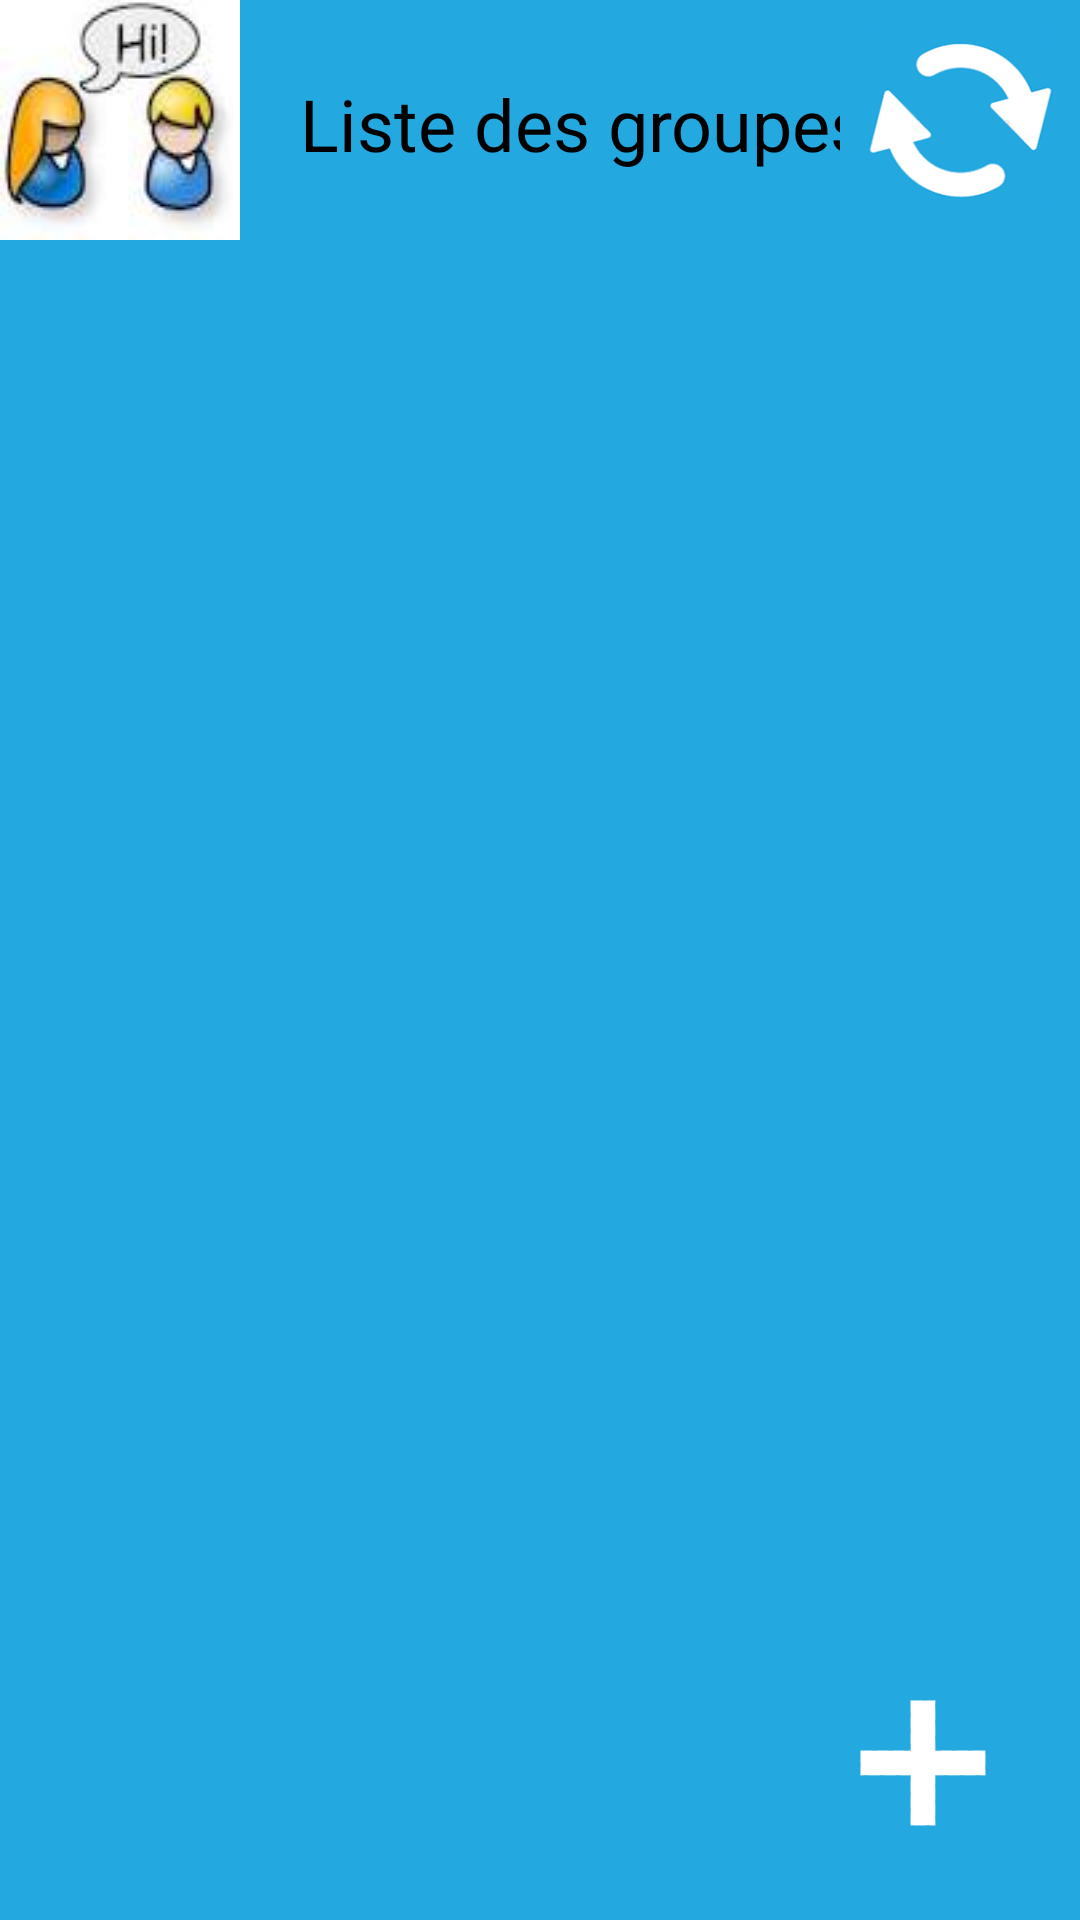

Where to tap for icons on this 1080×1920 app screen, as (x,y):
actualiser: (961,120)
add: (923,1763)
chatroom: (120,120)
